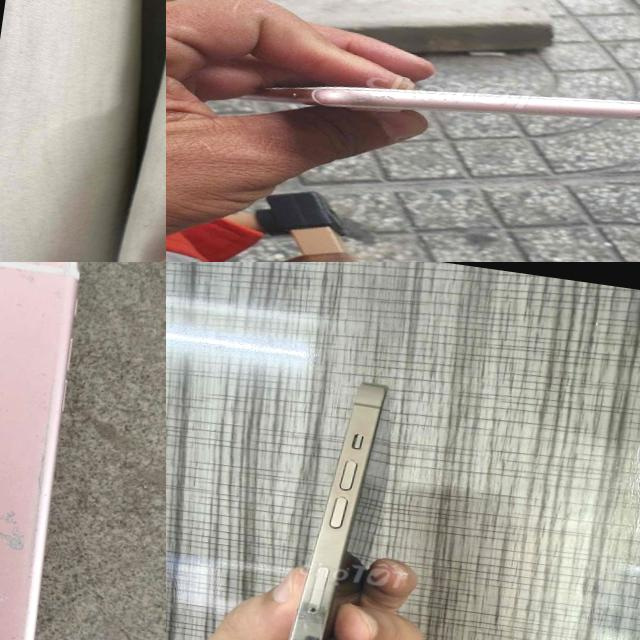gen_14: (230, 358, 395, 640)
gen_6: (0, 262, 78, 640)
gen_7_8: (244, 44, 640, 152)
